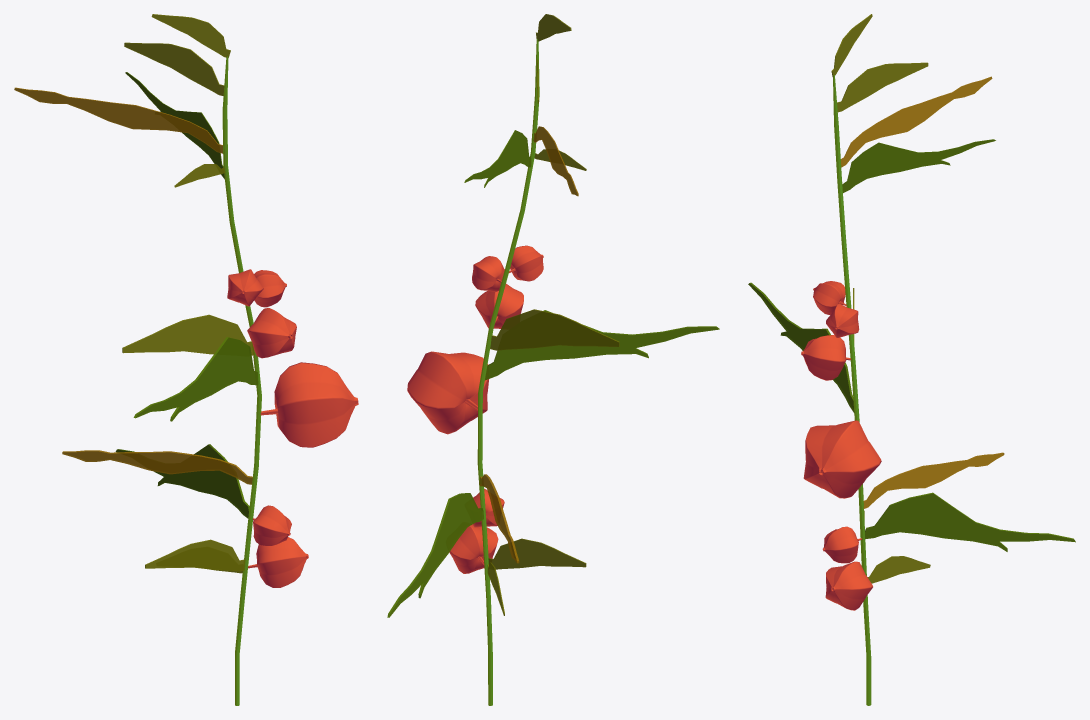
The model's file is final_flora_phyl_c.fbx.
3 views of the same model, side by side, from view 1: azimuth 30°, elevation 25°; view 2: azimuth 150°, elevation 25°; view 3: azimuth 270°, elevation 25° (orthographic). The views are drawn at different scales.
Parts seen in each view (by area): view 1: pSphere8; view 2: pSphere8; view 3: pSphere8.
Part boxes in pixels (box(x1,y1,x2,y2)): pSphere8: box(14, 14, 358, 705); pSphere8: box(387, 14, 719, 705); pSphere8: box(748, 14, 1075, 705).
Bounding box in the file's own units: 8.73 × 22.38 × 10.17.
